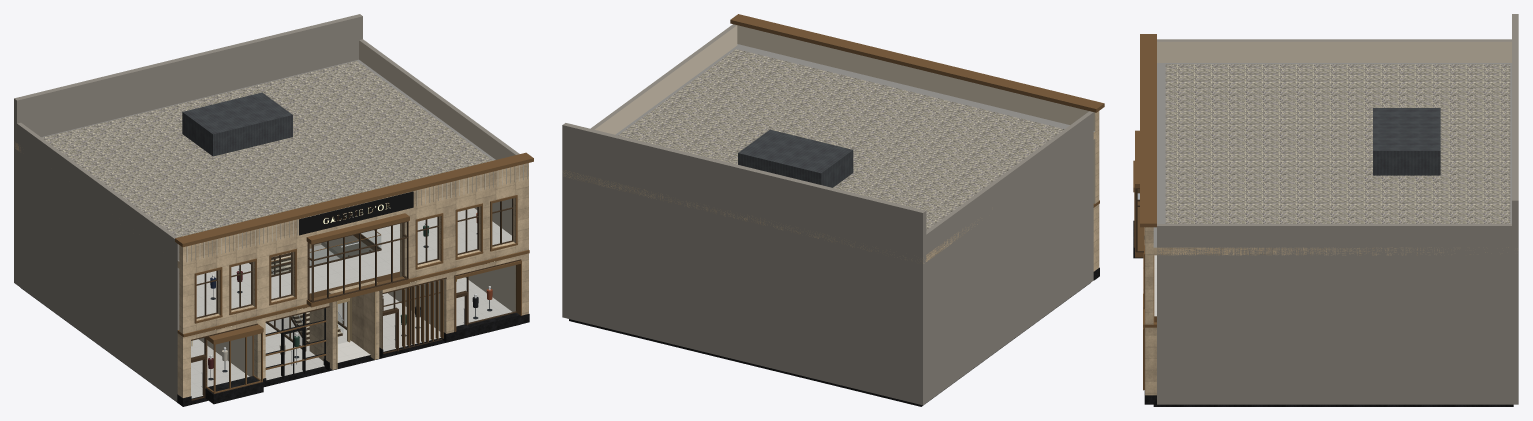
Rendered from galerie_dor_LOD0.fbx.
3 views of the same model, side by side, from view 1: azimuth 30°, elevation 25°; view 2: azimuth 150°, elevation 25°; view 3: azimuth 270°, elevation 25° (orthographic). The views are drawn at different scales.
Parts seen in each view (by area): view 1: B04_LOD0_BUILDING_EXTERIOR_Stone, B04_LOD0_BUILDING_EXTERIOR_Roof, B04_LOD0_BUILDING_EXTERIOR_RearInterface, B04_LOD0_FACADE_DETAILS_Bronze, B04_LOD0_BUILDING_INTERIOR_GroundSlab, B04_LOD0_BUILDING_INTERIOR_Slabs, B04_LOD0_BUILDING_INTERIOR_Partitions, B04_LOD0_SIGNAGE_Brand, B04_LOD0_FACADE_DETAILS_BayWindow, B04_LOD0_GLASS_SYSTEM_BayWinFrame, B04_LOD0_GLASS_SYSTEM_Shop1Frame, B04_LOD0_DISPLAY_OBJECTS_Fashion (+4 smaller); view 2: B04_LOD0_BUILDING_EXTERIOR_Stone, B04_LOD0_BUILDING_EXTERIOR_Roof, B04_LOD0_BUILDING_EXTERIOR_RearInterface, B04_LOD0_FACADE_DETAILS_Bronze, B04_LOD0_BUILDING_INTERIOR_GroundSlab; view 3: B04_LOD0_BUILDING_EXTERIOR_Stone, B04_LOD0_BUILDING_EXTERIOR_Roof, B04_LOD0_FACADE_DETAILS_Bronze, B04_LOD0_BUILDING_EXTERIOR_RearInterface, B04_LOD0_BUILDING_INTERIOR_GroundSlab, B04_LOD0_FACADE_DETAILS_BayWindow.
Boxes of the visible parts, bbox=[...] form: B04_LOD0_BUILDING_EXTERIOR_Stone: bbox=[14, 39, 529, 406]; B04_LOD0_BUILDING_EXTERIOR_Roof: bbox=[14, 59, 528, 271]; B04_LOD0_BUILDING_EXTERIOR_RearInterface: bbox=[14, 14, 362, 282]; B04_LOD0_FACADE_DETAILS_Bronze: bbox=[175, 152, 533, 404]; B04_LOD0_BUILDING_INTERIOR_GroundSlab: bbox=[21, 245, 520, 406]; B04_LOD0_BUILDING_INTERIOR_Slabs: bbox=[196, 208, 511, 317]; B04_LOD0_BUILDING_INTERIOR_Partitions: bbox=[198, 235, 440, 376]; B04_LOD0_SIGNAGE_Brand: bbox=[215, 191, 494, 329]; B04_LOD0_FACADE_DETAILS_BayWindow: bbox=[306, 213, 409, 307]; B04_LOD0_GLASS_SYSTEM_BayWinFrame: bbox=[307, 221, 408, 302]; B04_LOD0_GLASS_SYSTEM_Shop1Frame: bbox=[265, 308, 325, 382]; B04_LOD0_DISPLAY_OBJECTS_Fashion: bbox=[191, 213, 492, 380]; B04_LOD0_BUILDING_EXTERIOR_Stone: bbox=[562, 24, 1099, 405]; B04_LOD0_BUILDING_EXTERIOR_Roof: bbox=[562, 44, 1095, 263]; B04_LOD0_BUILDING_EXTERIOR_RearInterface: bbox=[562, 123, 926, 402]; B04_LOD0_FACADE_DETAILS_Bronze: bbox=[730, 14, 1104, 207]; B04_LOD0_BUILDING_INTERIOR_GroundSlab: bbox=[569, 283, 1090, 406]; B04_LOD0_BUILDING_EXTERIOR_Stone: bbox=[1144, 39, 1518, 404]; B04_LOD0_BUILDING_EXTERIOR_Roof: bbox=[1145, 63, 1517, 255]; B04_LOD0_FACADE_DETAILS_Bronze: bbox=[1133, 34, 1156, 390]; B04_LOD0_BUILDING_EXTERIOR_RearInterface: bbox=[1512, 14, 1518, 280]; B04_LOD0_BUILDING_INTERIOR_GroundSlab: bbox=[1153, 404, 1513, 406]; B04_LOD0_FACADE_DETAILS_BayWindow: bbox=[1135, 130, 1143, 257].
Size of what is drawn, in the model's own units: 26.4 by 22.7 by 13.55.
